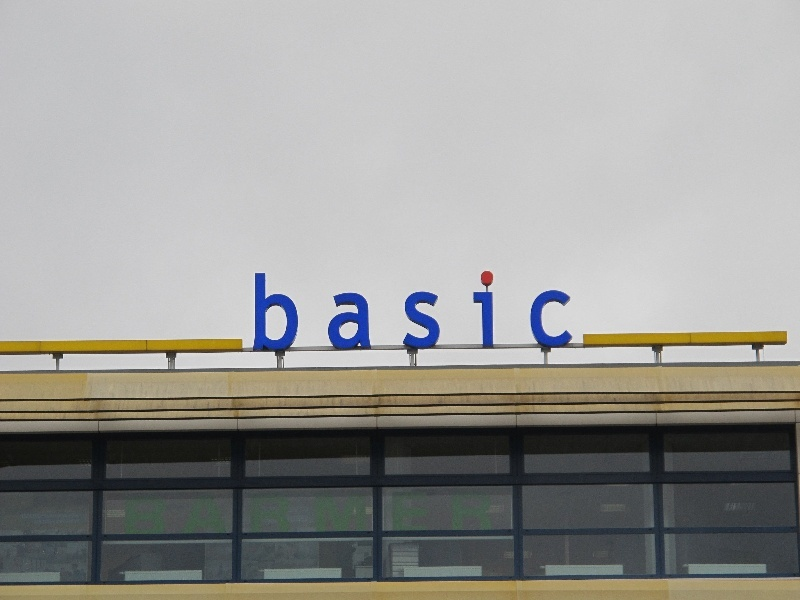text: (257, 271, 272, 352), (273, 271, 288, 352), (289, 271, 304, 352), (305, 271, 320, 352), (321, 271, 336, 352), (337, 271, 352, 352), (353, 271, 368, 352), (369, 271, 384, 352), (385, 271, 400, 352), (401, 271, 416, 352), (417, 271, 432, 352), (433, 271, 448, 352), (449, 271, 464, 352), (465, 271, 480, 352), (481, 271, 496, 352), (497, 271, 512, 352), (513, 271, 528, 352), (529, 271, 544, 352), (545, 271, 560, 352), (561, 271, 574, 352), (129, 492, 144, 536), (145, 492, 160, 536), (161, 492, 176, 536), (177, 492, 192, 536), (193, 492, 208, 536), (209, 492, 224, 536), (225, 492, 240, 536), (241, 492, 256, 536), (257, 492, 272, 536), (273, 492, 288, 536), (289, 492, 304, 536), (305, 492, 320, 536), (321, 492, 336, 536), (337, 492, 352, 536), (353, 492, 368, 536), (369, 492, 384, 536), (385, 492, 400, 536), (401, 492, 416, 536), (417, 492, 432, 536), (433, 492, 448, 536), (449, 492, 464, 536), (465, 492, 480, 536), (481, 492, 492, 536), (125, 492, 128, 536), (255, 271, 256, 352)
